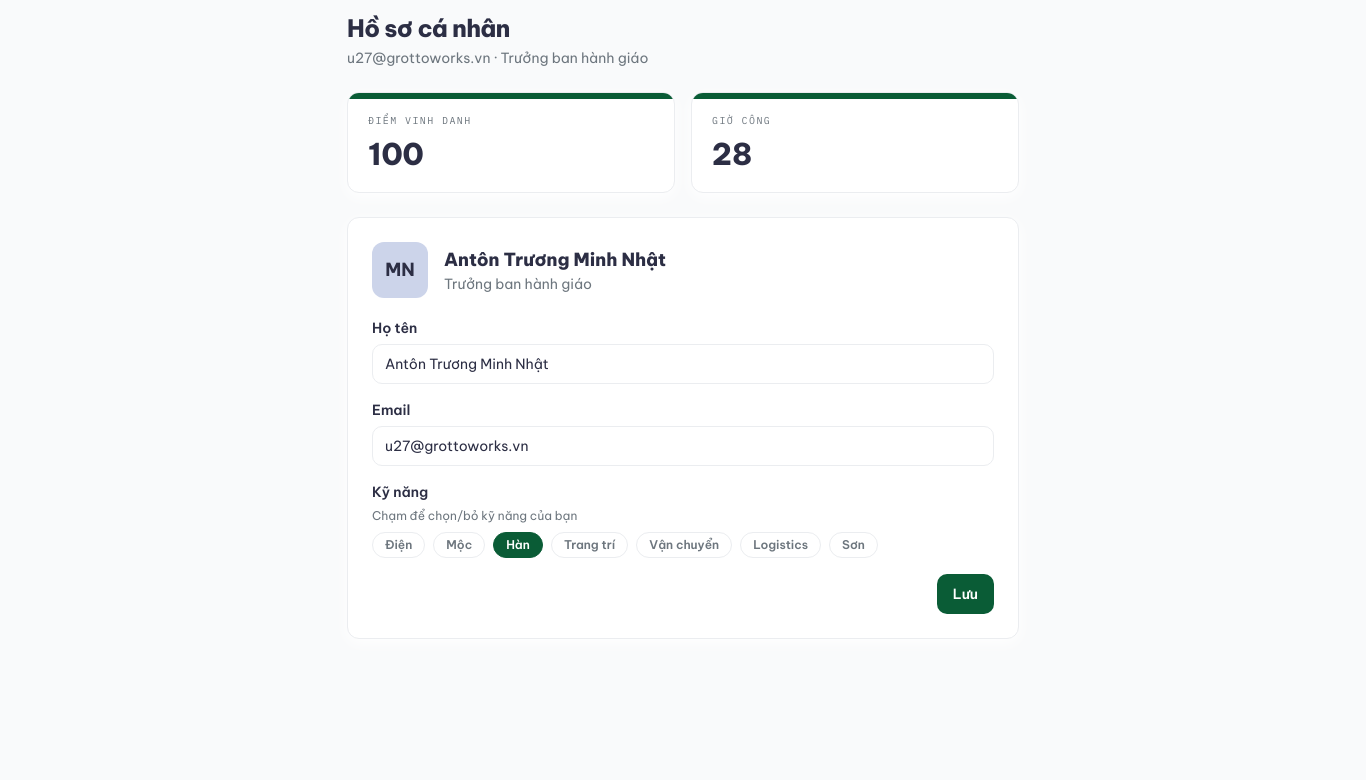
submit → PATCH /api/users/u27 với tên + kỹ năng mới
The width and height of the screenshot is (1366, 780).
Replace the text in the field labelled "Họ tên" with "Antôn Tên Mới" at (683, 364), box x1=372 y1=344 x2=994 y2=384
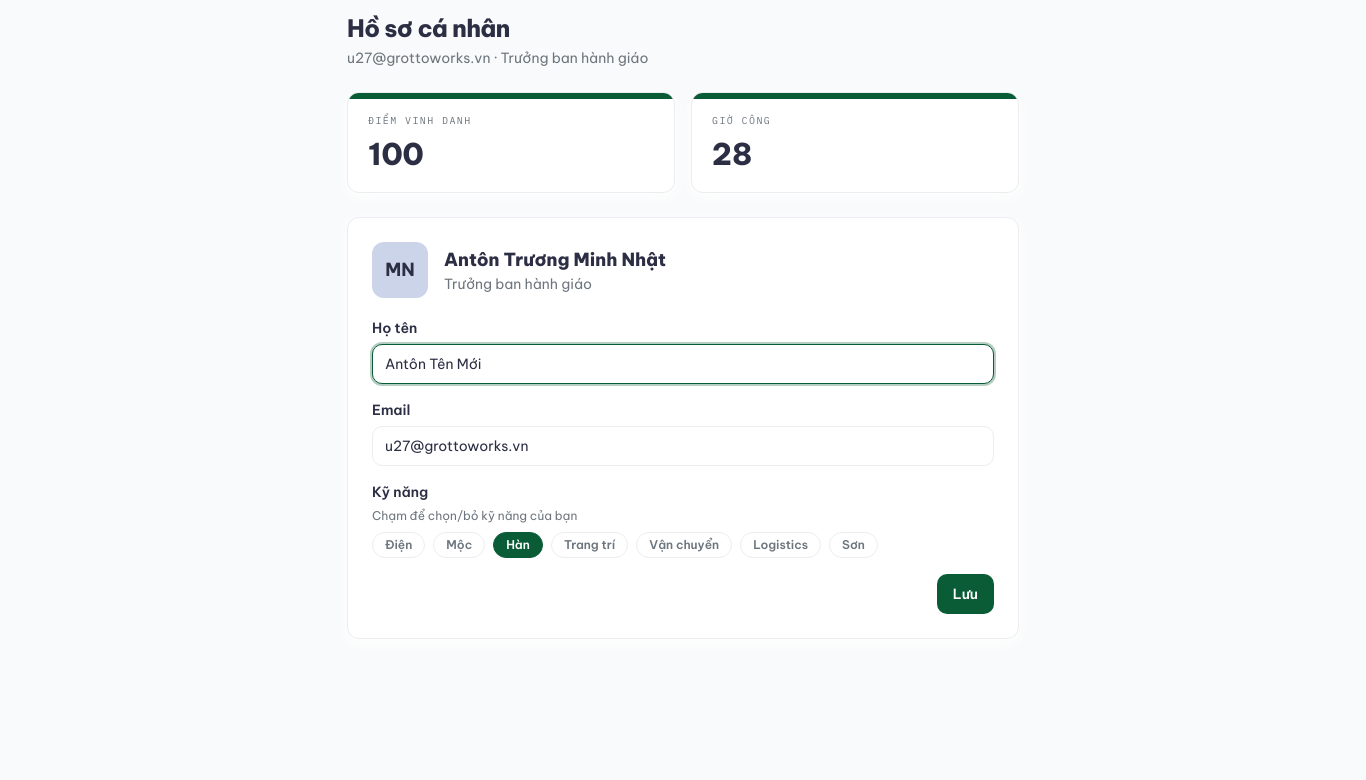
Click the button "Sơn" at (854, 545), box x1=829 y1=532 x2=878 y2=558
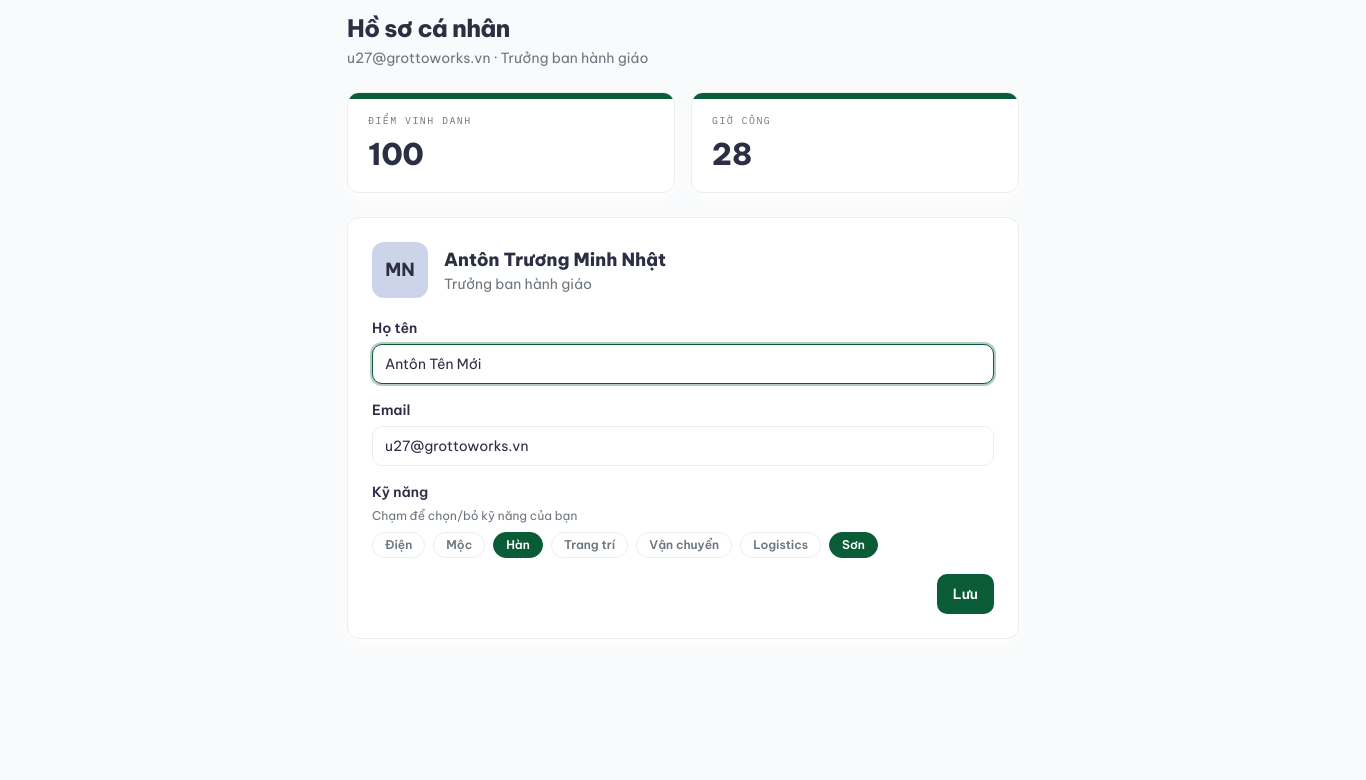
Click the button "Lưu" at (965, 594), box x1=937 y1=574 x2=994 y2=614
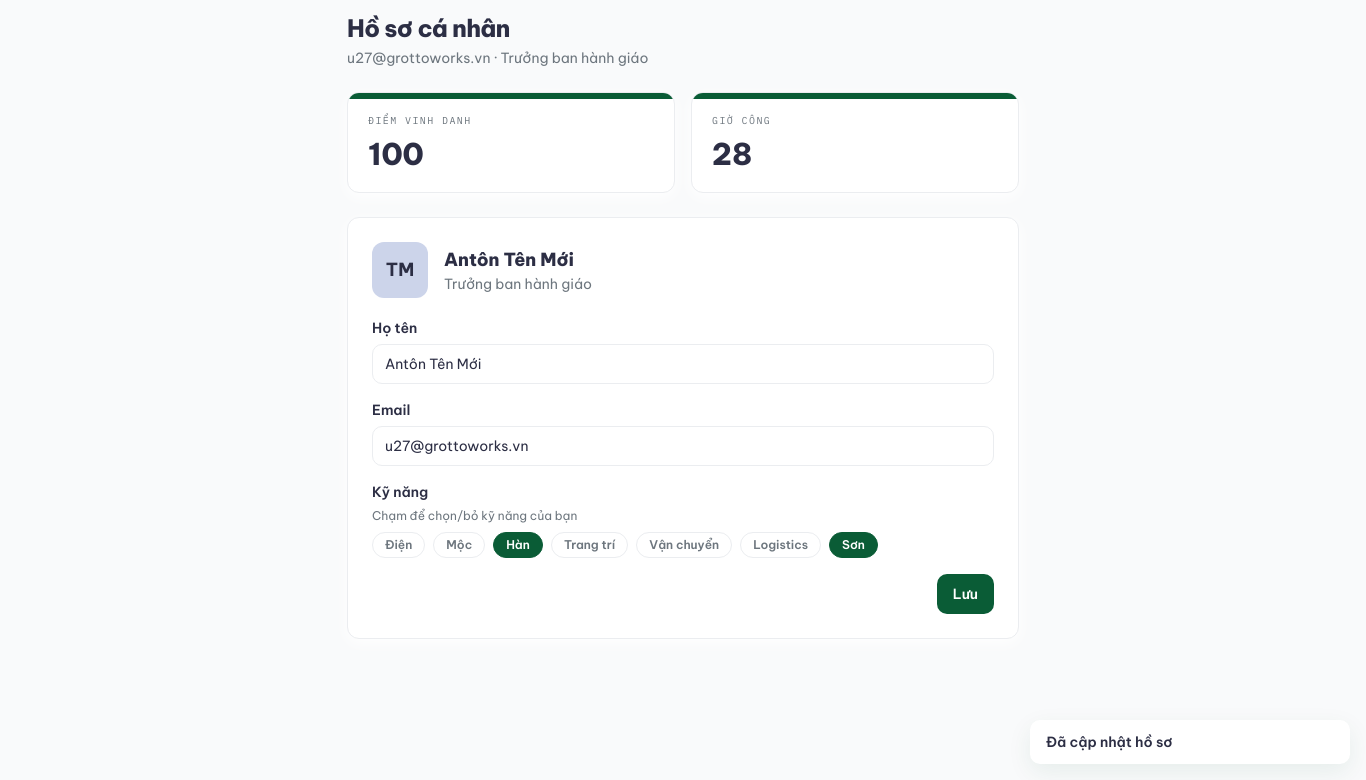
Expected: the text "Đã cập nhật hồ sơ" is shown, x1=1030 y1=720 x2=1350 y2=764
Expected: the text "Antôn Tên Mới" is shown, x1=444 y1=246 x2=592 y2=274
